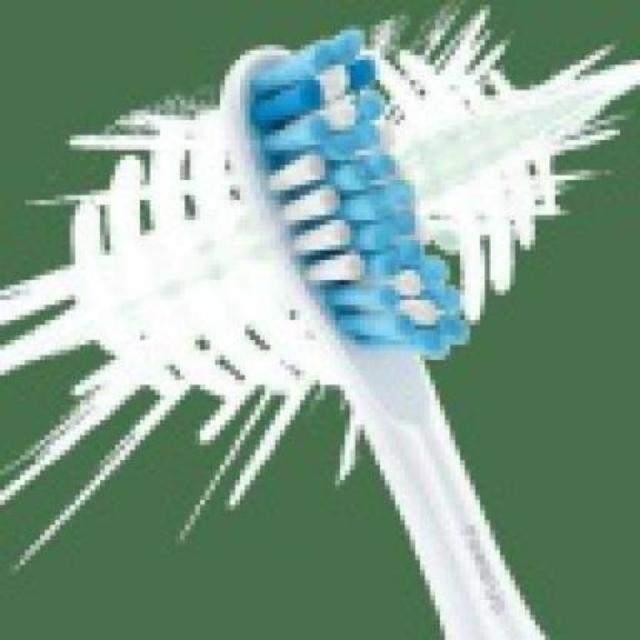toothbrush: (192, 18, 540, 526)
